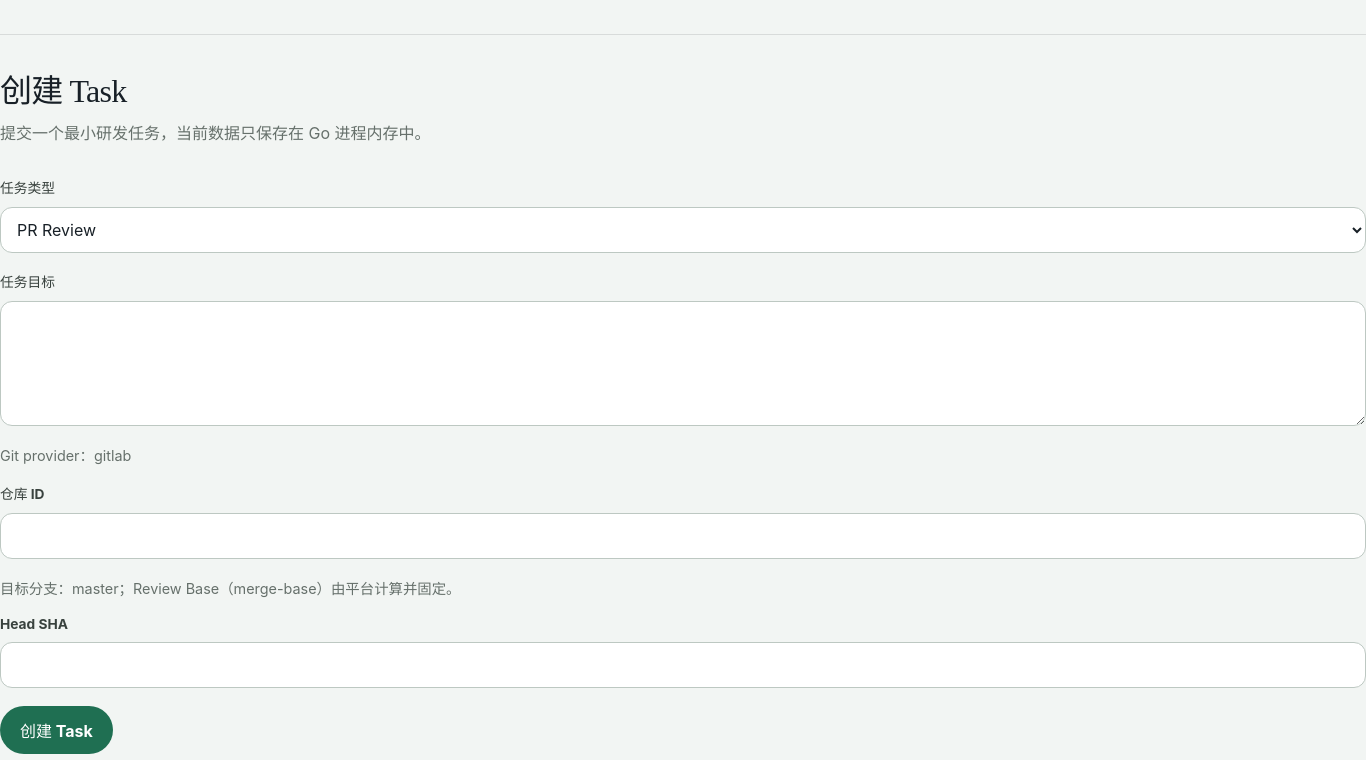
Test: TaskWorkspace › does not replace a queued task with an older list snapshot
Type "Review pull request 42" into the text box labelled "任务目标" at (683, 363), box [0,301,1365,426]
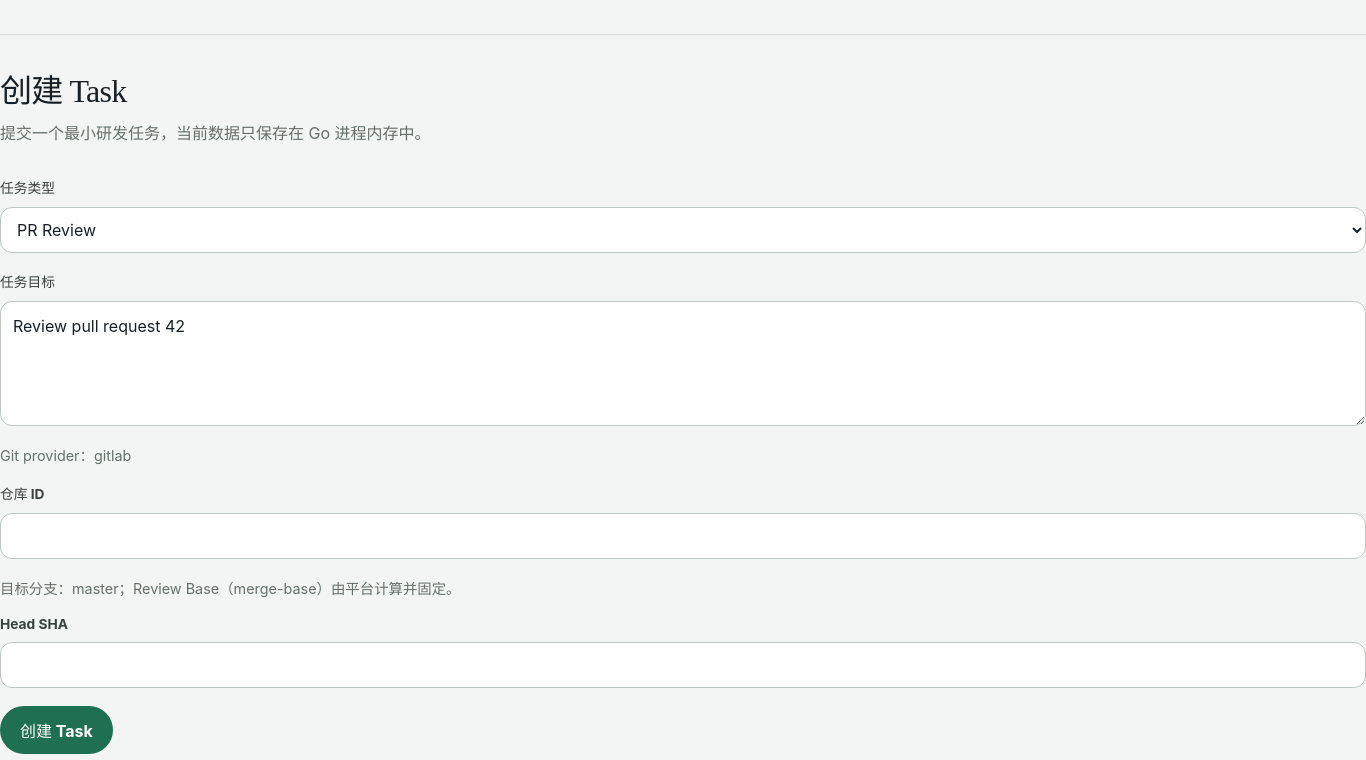
Type "project-7" into the field labelled "仓库 ID" at (683, 536), box [0,513,1365,559]
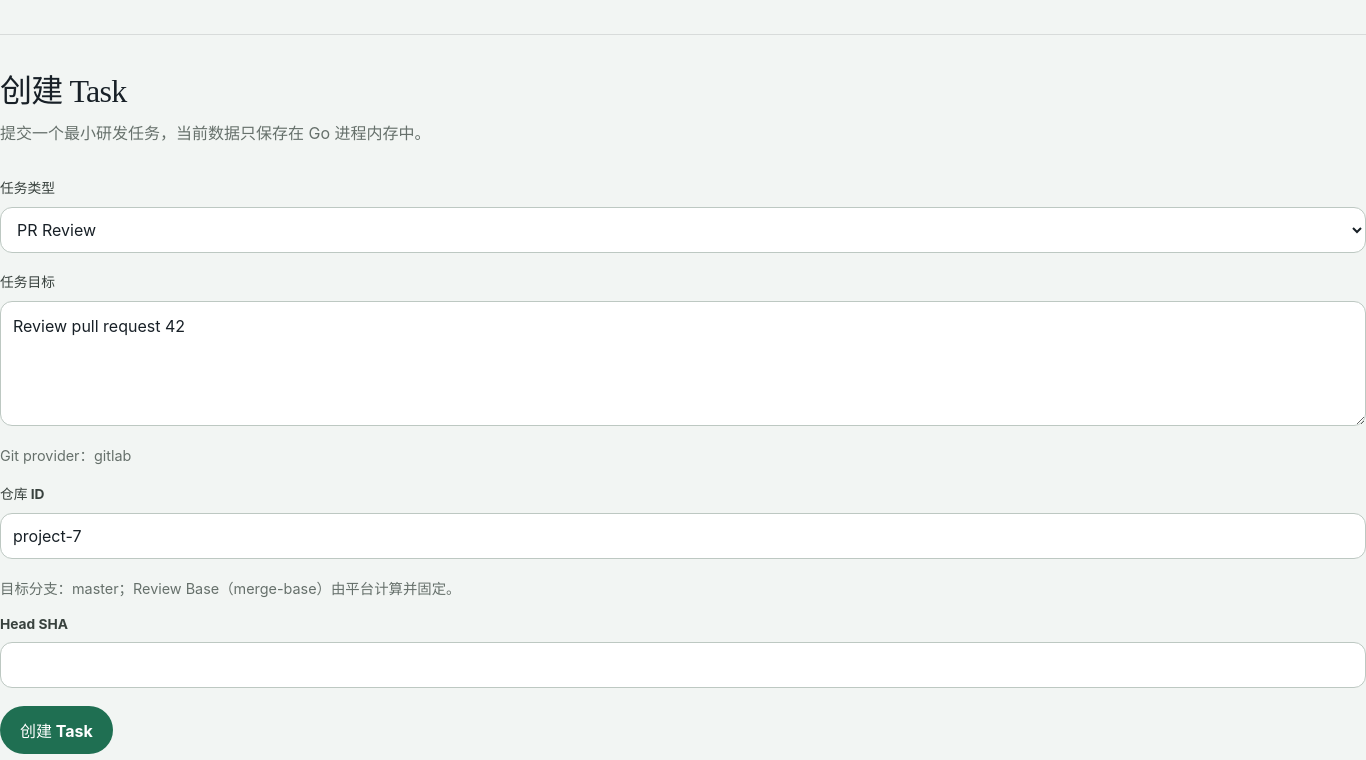
Type "2222222222222222222222222222222222222222" into the field labelled "Head SHA" at (683, 665), box [0,642,1365,688]
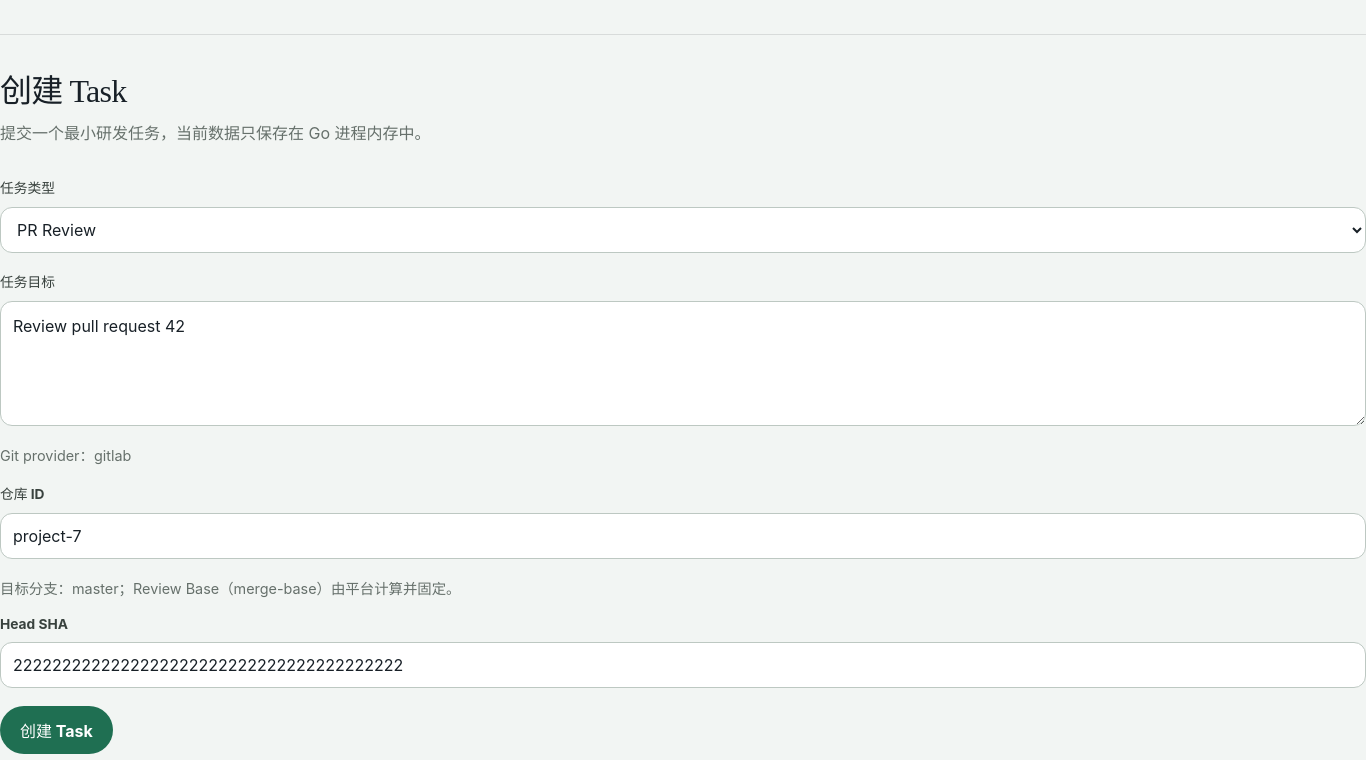
Click the button "创建 Task" at (56, 730), box [0,706,113,754]
(page scrolled)
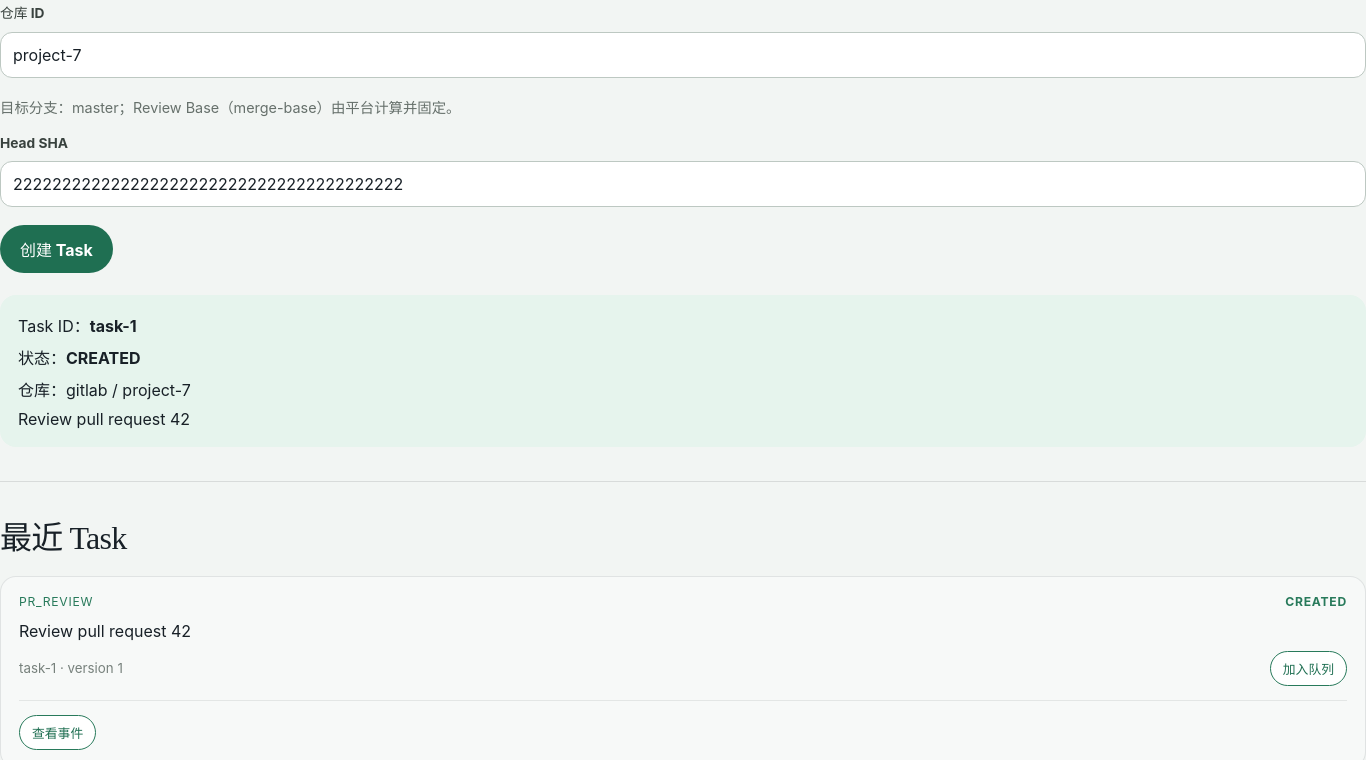
Click the button with aria-label "将 task-1 加入队列" at (1308, 668), box [1270,651,1347,686]
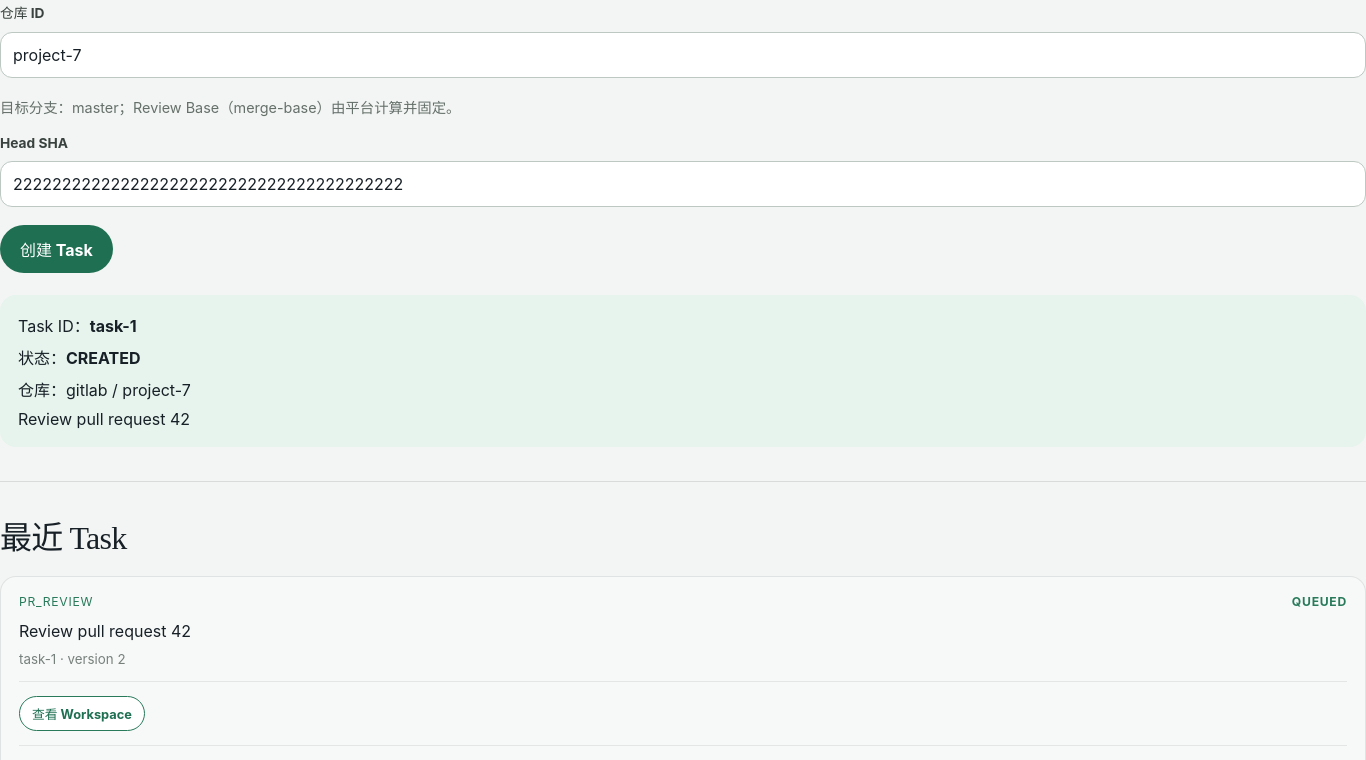
Expected: the text "task-1 · version 2" is shown, [19,651,126,667]
Expected: the text "QUEUED" is shown, [1292,594,1347,609]
